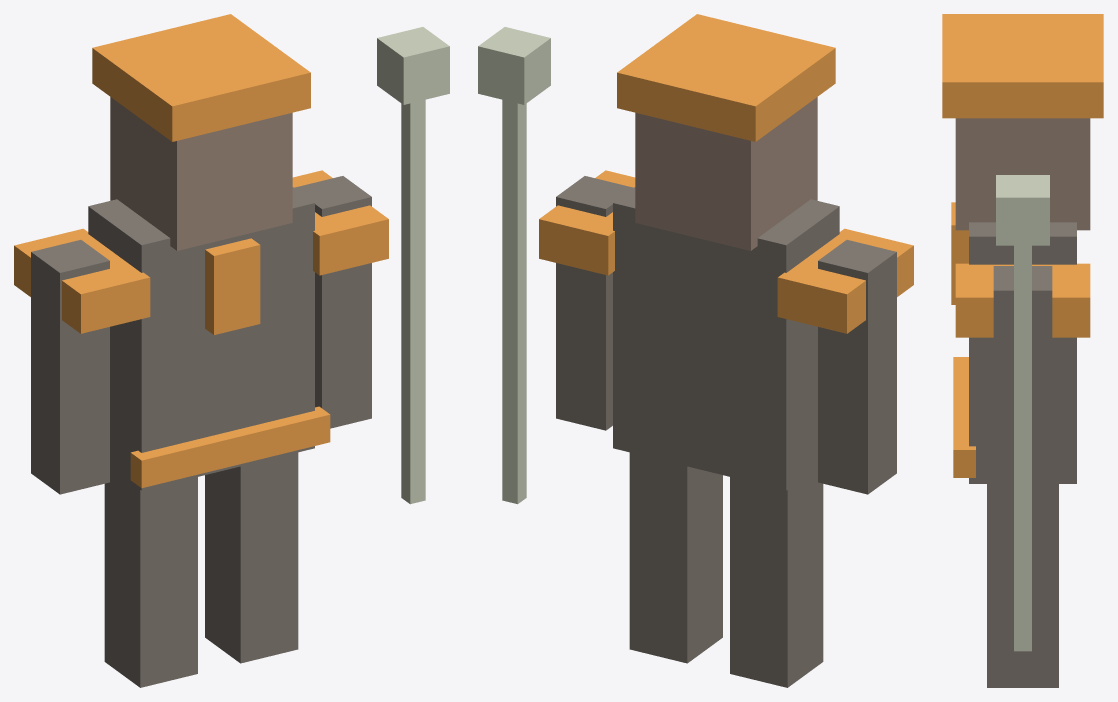
The model's file is 07_calder_runeclasp_diver_at_server.glb.
The picture shows the model from 3 angles, left to right: view 1: azimuth 30°, elevation 25°; view 2: azimuth 150°, elevation 25°; view 3: azimuth 270°, elevation 25°; orthographic projection.
Visible parts, largest first — view 1: Calder Runeclasp, Diver at Server; view 2: Calder Runeclasp, Diver at Server; view 3: Calder Runeclasp, Diver at Server.
Boxes of the visible parts, box(x1,y1,x2,y2) form: Calder Runeclasp, Diver at Server: box(14, 14, 449, 687); Calder Runeclasp, Diver at Server: box(478, 14, 913, 687); Calder Runeclasp, Diver at Server: box(942, 14, 1103, 687).
Bounding box in the file's own units: 1.04 × 1.51 × 0.3683.
